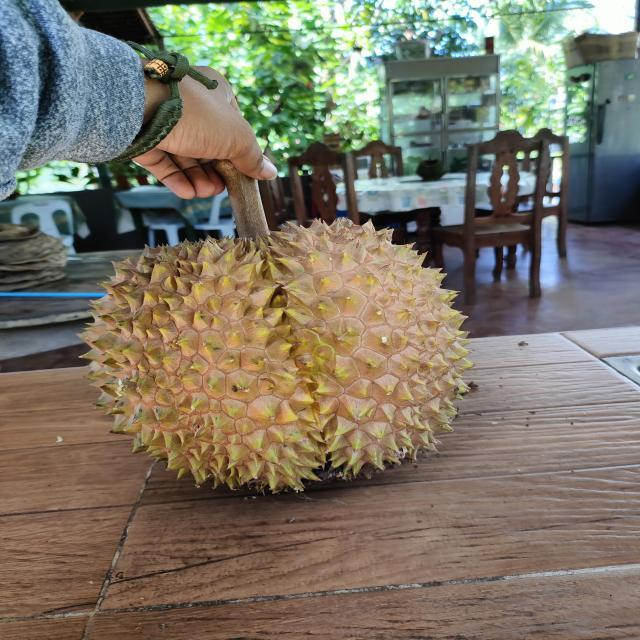mature: (79, 217, 479, 489)
